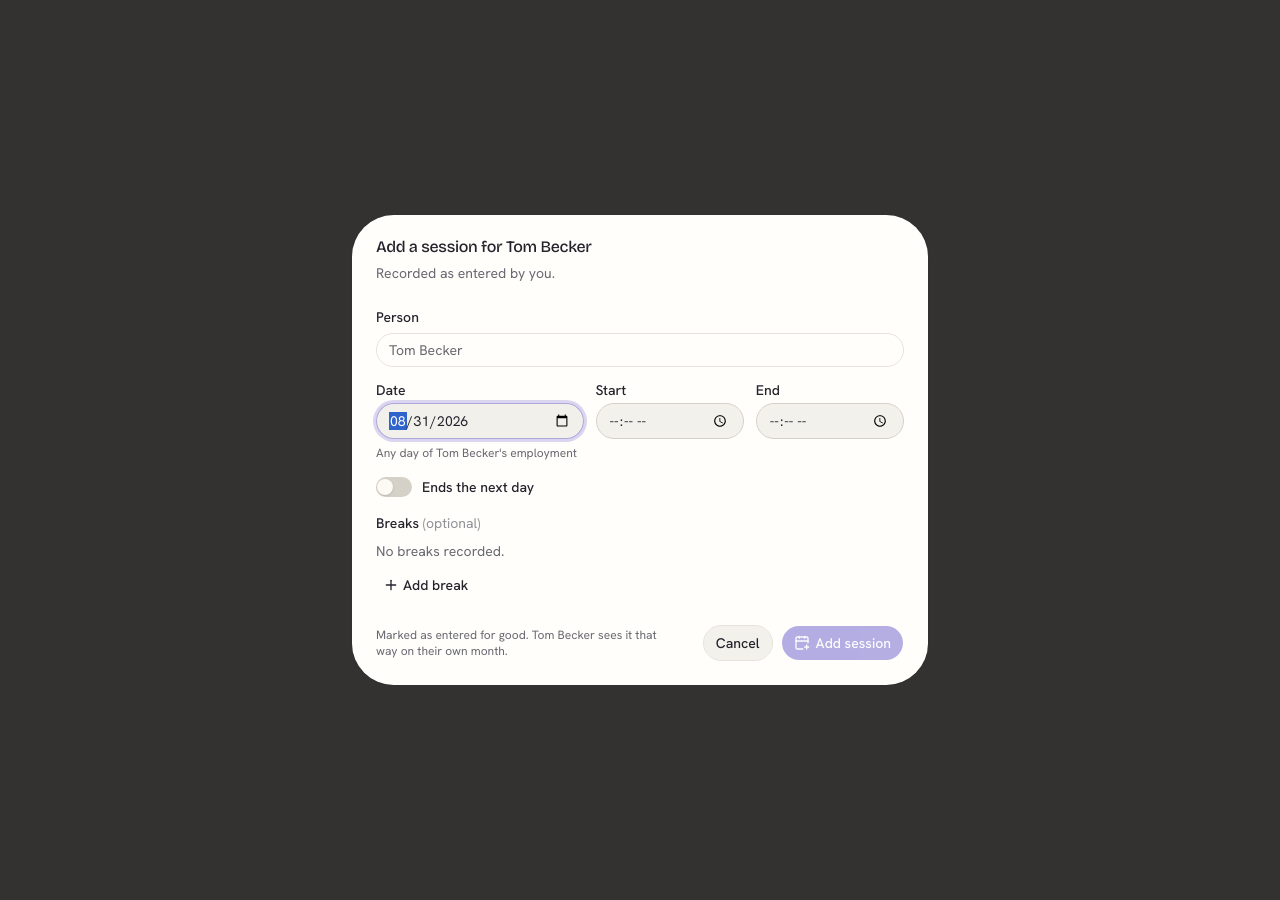
Test: EntryDialog › says in the reader's language why the API refused, the session limit included
The image size is (1280, 900).
Type "08:30" into the time field labelled "Start".
click(670, 421); type("08:30")  # box [596, 403, 744, 439]
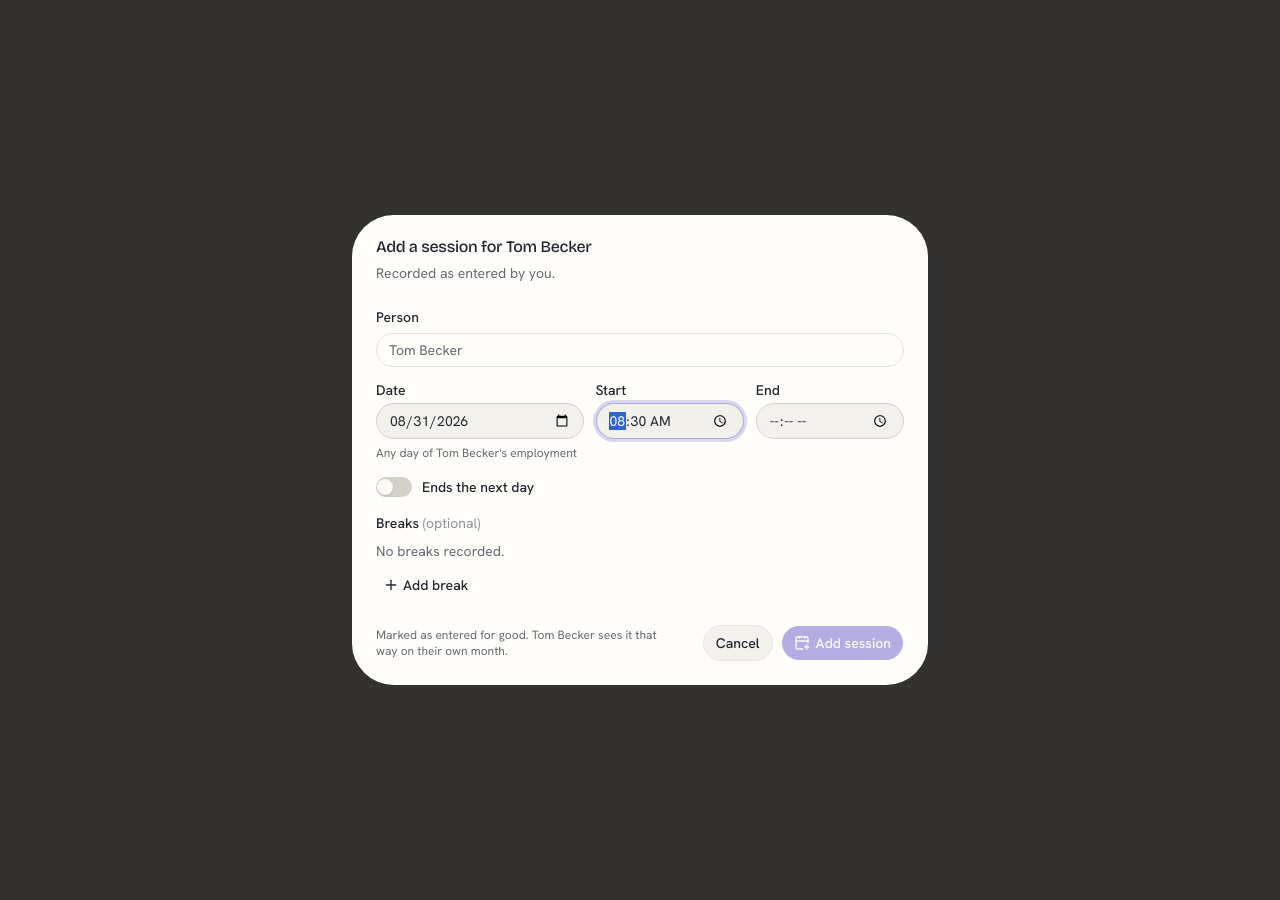
Type "17:00" into the time field labelled "End".
click(830, 421); type("17:00")  # box [756, 403, 904, 439]
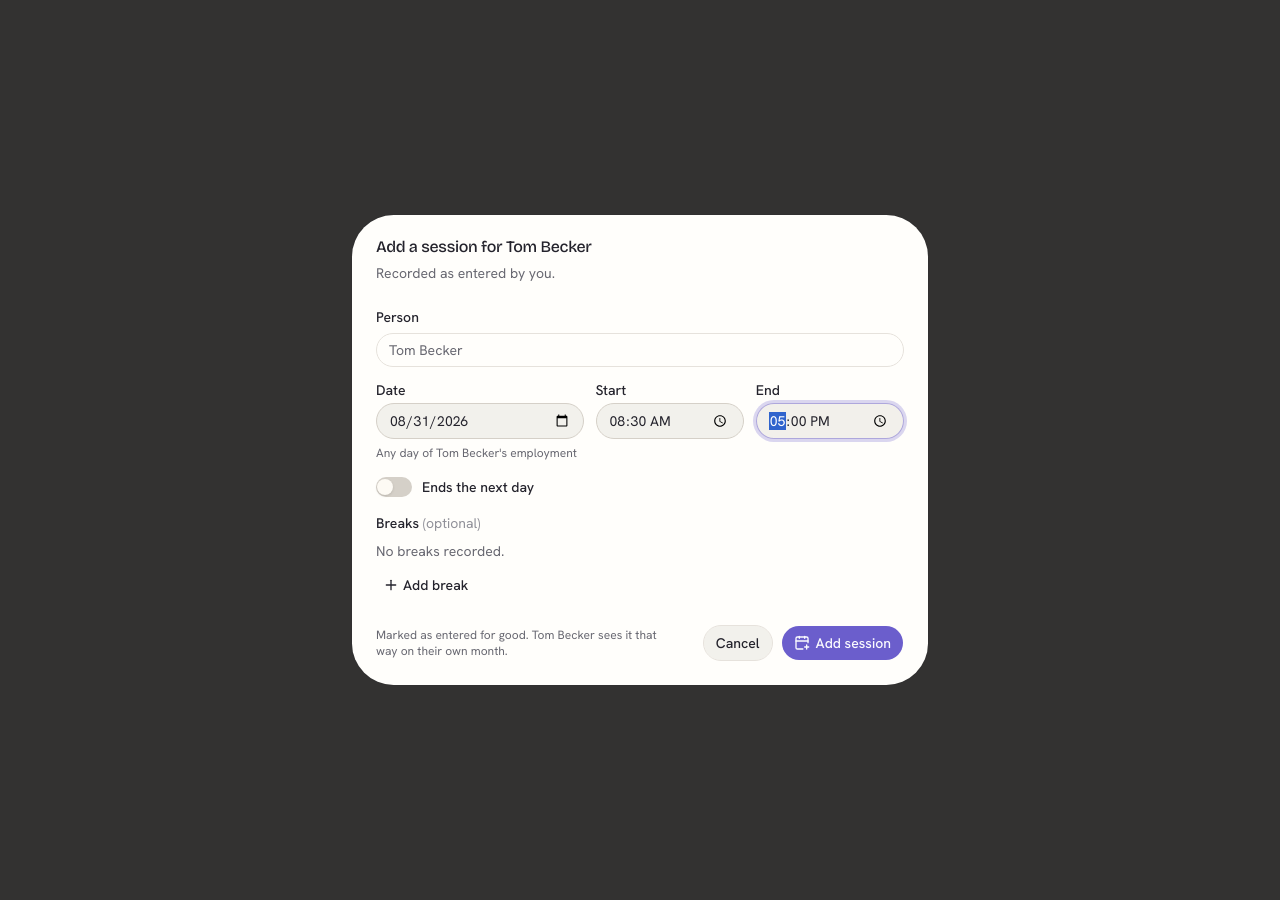
Click the button "Add session".
click(842, 643)  # box [781, 625, 904, 661]
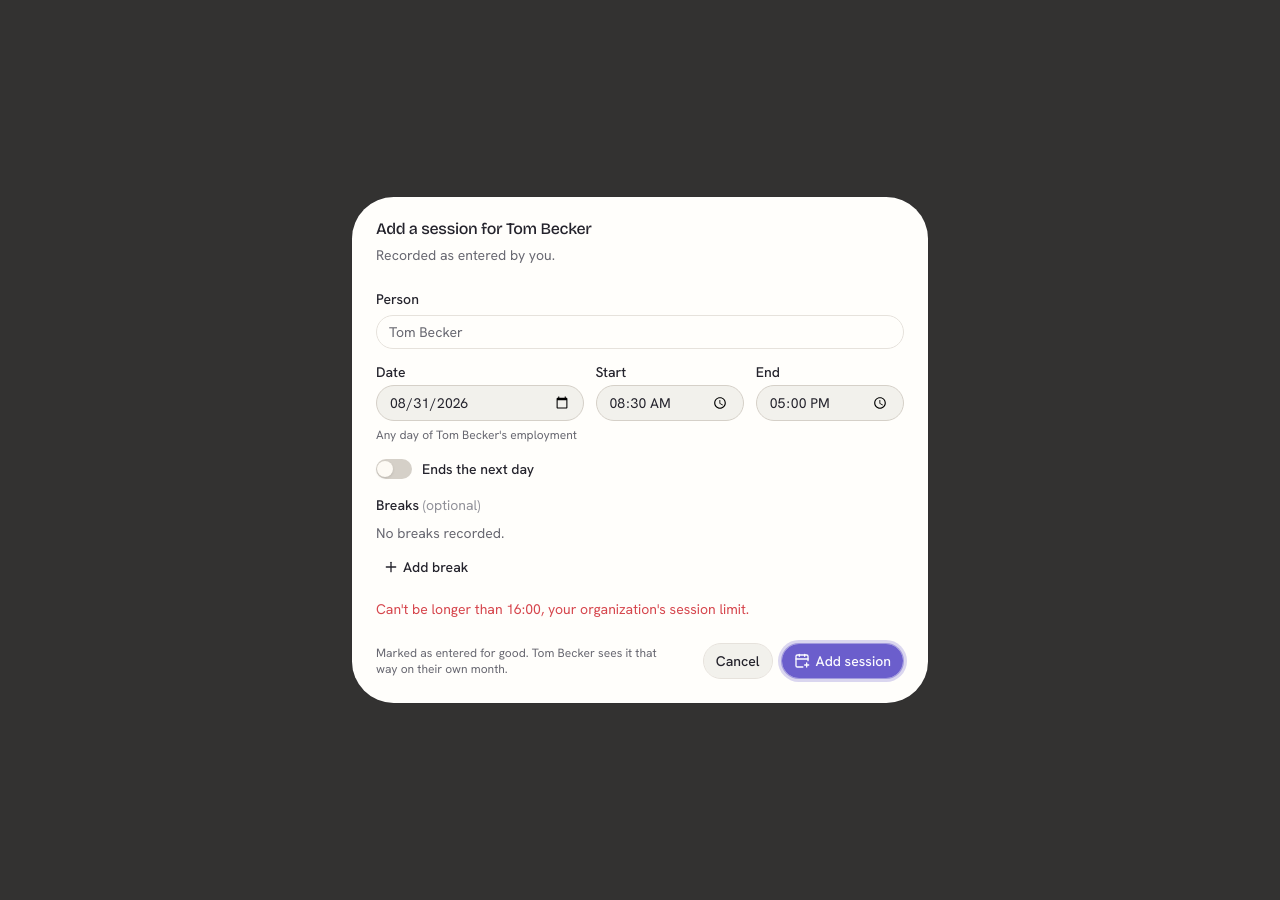
Expected: the text "Can't be longer than 16:00, your organization's session limit." is shown, [376, 600, 749, 618]
